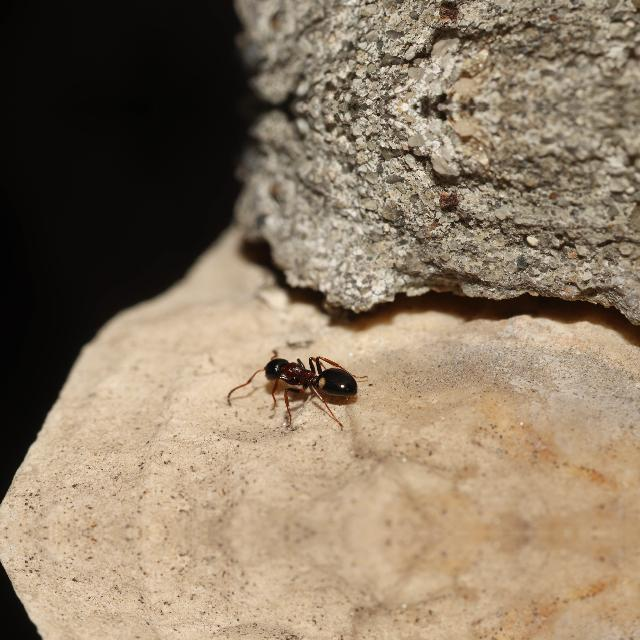Dolichoderus: (236, 339, 372, 411)
